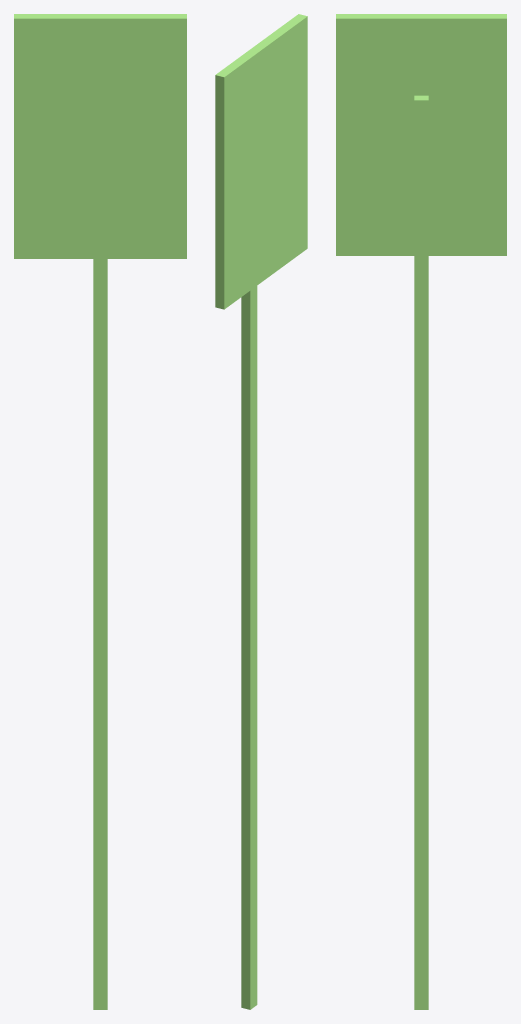
File: StreetSign_COL.FBX
The picture shows the model from 3 angles, left to right: view 1: azimuth 90°, elevation 25°; view 2: azimuth 150°, elevation 25°; view 3: azimuth 270°, elevation 25°; orthographic projection. The views are drawn at different scales.
Visible parts, largest first — view 1: StreetSign_COL; view 2: StreetSign_COL; view 3: StreetSign_COL.
Boxes of the visible parts, x1,y1,x2,y2 form: StreetSign_COL: [14, 14, 186, 1009]; StreetSign_COL: [215, 14, 307, 1009]; StreetSign_COL: [336, 14, 506, 1009].
Size of the model in its own units: 5.28 by 227 by 35.69.
